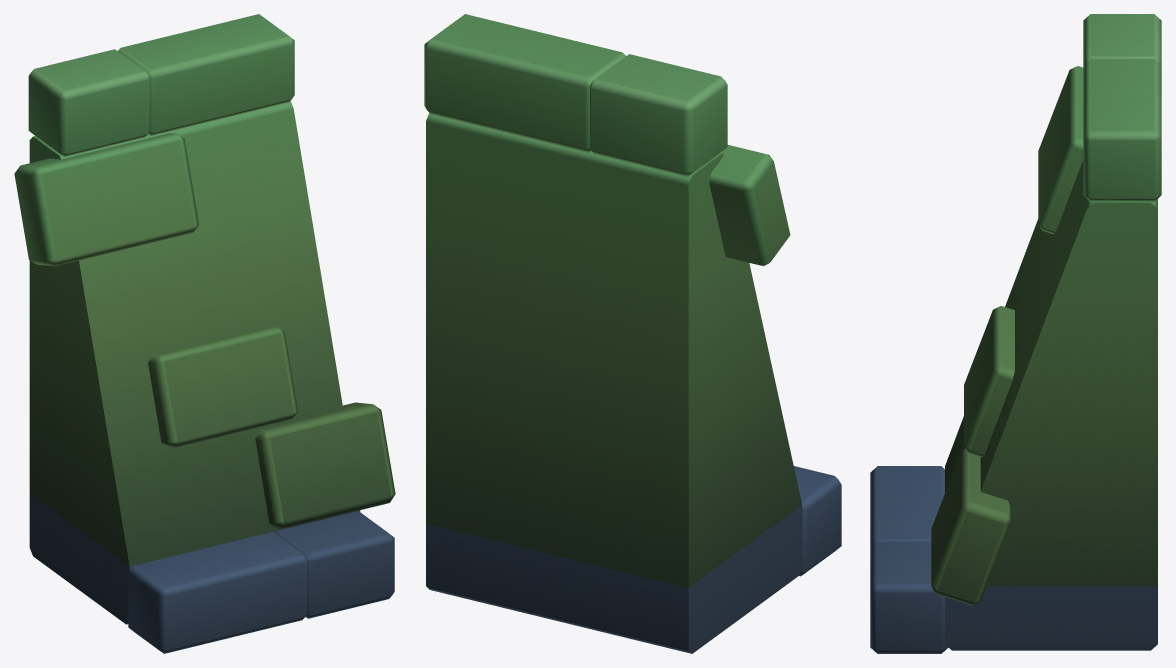
The model's file is wall_lower_straight_01.fbx.
The picture shows the model from 3 angles, left to right: view 1: azimuth 30°, elevation 25°; view 2: azimuth 150°, elevation 25°; view 3: azimuth 270°, elevation 25°; orthographic projection. The views are drawn at different scales.
Parts seen in each view (by area): view 1: wall_lower_straight_01; view 2: wall_lower_straight_01; view 3: wall_lower_straight_01.
Boxes of the visible parts, x1=… form: wall_lower_straight_01: x1=14, y1=14, x2=395, y2=653; wall_lower_straight_01: x1=424, y1=14, x2=841, y2=653; wall_lower_straight_01: x1=870, y1=14, x2=1161, y2=653.
Size of the model in its own units: 259 by 406 by 205.
